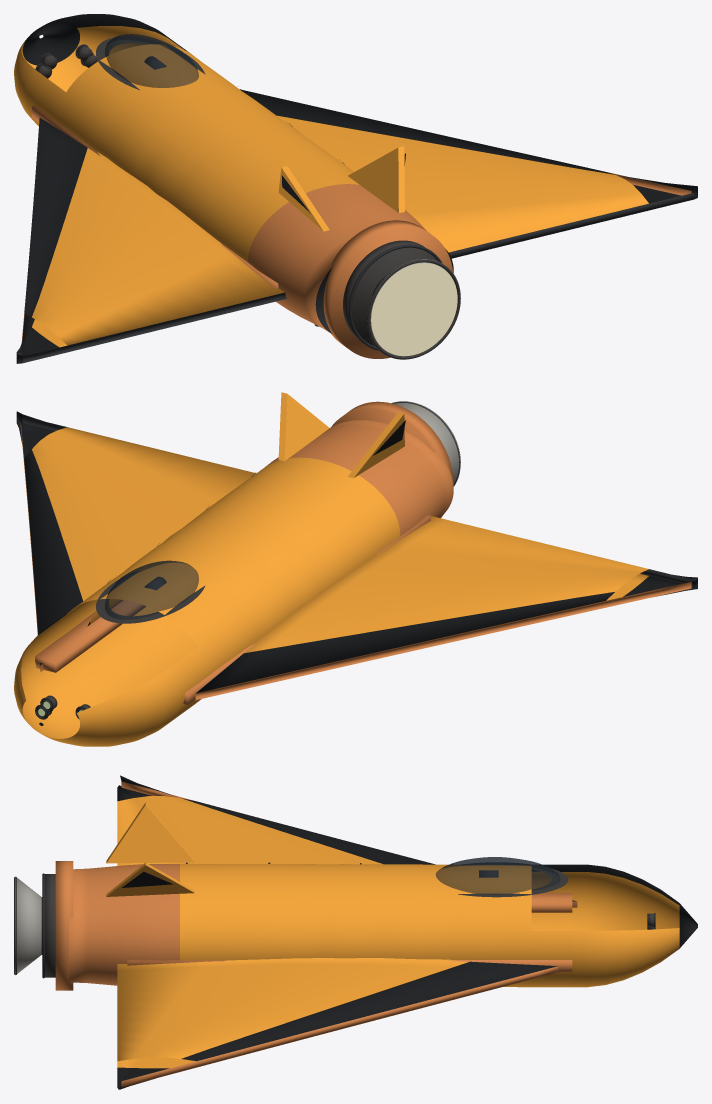
File: Ship_Longwing_9.glb
The picture shows the model from 3 angles, top to bottom: view 1: azimuth 30°, elevation 25°; view 2: azimuth 150°, elevation 25°; view 3: azimuth 270°, elevation 25°; orthographic projection. The views are drawn at different scales.
Parts seen in each view (by area): view 1: Fuselage_OrganicEllipsoidTaperedBody_BakedPaint, Wing_Left_LongDeltaAerofoil_BakedPaint, Wing_Right_LongDeltaAerofoil_BakedPaint, EngineEmitter, AftCollar_IntegratedSingleEngineBand, CanopyGlass_LowInsetDome, EngineBlock_AftDarkSingleEngineHousing, TailFin_Right_CantedStabilizer, EngineLip_Center_DarkWideRim, CanopyFrame_DorsalOvalRim, TailFin_Left_CantedStabilizer, WingRoot_Left_EmbeddedShoulder (+1 smaller); view 2: Fuselage_OrganicEllipsoidTaperedBody_BakedPaint, Wing_Left_LongDeltaAerofoil_BakedPaint, Wing_Right_LongDeltaAerofoil_BakedPaint, CanopyGlass_LowInsetDome, WingRoot_Right_EmbeddedShoulder, AftCollar_IntegratedSingleEngineBand, TailFin_Right_CantedStabilizer, EngineBell_Center_BroadBurnishedNozzle, CanopyFrame_DorsalOvalRim, TailFin_Left_CantedStabilizer, WingRoot_Left_EmbeddedShoulder; view 3: Fuselage_OrganicEllipsoidTaperedBody_BakedPaint, Wing_Right_LongDeltaAerofoil_BakedPaint, Wing_Left_LongDeltaAerofoil_BakedPaint, CanopyGlass_LowInsetDome, TailFin_Left_CantedStabilizer, AftCollar_IntegratedSingleEngineBand, EngineBell_Center_BroadBurnishedNozzle, TailFin_Right_CantedStabilizer, EngineBlock_AftDarkSingleEngineHousing, WingRoot_Right_EmbeddedShoulder, CanopyFrame_DorsalOvalRim, WingRoot_Left_EmbeddedShoulder.
Boxes of the visible parts, x1=… form: Fuselage_OrganicEllipsoidTaperedBody_BakedPaint: x1=14, y1=14, x2=453, y2=333; Wing_Left_LongDeltaAerofoil_BakedPaint: x1=16, y1=117, x2=286, y2=363; Wing_Right_LongDeltaAerofoil_BakedPaint: x1=240, y1=89, x2=697, y2=258; EngineEmitter: x1=371, y1=263, x2=457, y2=356; AftCollar_IntegratedSingleEngineBand: x1=323, y1=220, x2=452, y2=358; CanopyGlass_LowInsetDome: x1=104, y1=34, x2=198, y2=87; EngineBlock_AftDarkSingleEngineHousing: x1=343, y1=240, x2=436, y2=345; TailFin_Right_CantedStabilizer: x1=348, y1=146, x2=404, y2=212; EngineLip_Center_DarkWideRim: x1=367, y1=259, x2=460, y2=359; CanopyFrame_DorsalOvalRim: x1=96, y1=37, x2=205, y2=89; TailFin_Left_CantedStabilizer: x1=278, y1=166, x2=329, y2=231; WingRoot_Left_EmbeddedShoulder: x1=32, y1=105, x2=278, y2=288; Fuselage_OrganicEllipsoidTaperedBody_BakedPaint: x1=14, y1=420, x2=453, y2=746; Wing_Left_LongDeltaAerofoil_BakedPaint: x1=194, y1=516, x2=697, y2=700; Wing_Right_LongDeltaAerofoil_BakedPaint: x1=16, y1=411, x2=255, y2=672; CanopyGlass_LowInsetDome: x1=105, y1=560, x2=198, y2=619; WingRoot_Right_EmbeddedShoulder: x1=35, y1=600, x2=145, y2=672; AftCollar_IntegratedSingleEngineBand: x1=331, y1=401, x2=453, y2=517; TailFin_Right_CantedStabilizer: x1=278, y1=392, x2=329, y2=461; EngineBell_Center_BroadBurnishedNozzle: x1=391, y1=401, x2=460, y2=486; CanopyFrame_DorsalOvalRim: x1=96, y1=571, x2=205, y2=623; TailFin_Left_CantedStabilizer: x1=347, y1=412, x2=404, y2=477; WingRoot_Left_EmbeddedShoulder: x1=183, y1=515, x2=430, y2=704; Fuselage_OrganicEllipsoidTaperedBody_BakedPaint: x1=69, y1=864, x2=697, y2=987; Wing_Right_LongDeltaAerofoil_BakedPaint: x1=117, y1=958, x2=560, y2=1089; Wing_Left_LongDeltaAerofoil_BakedPaint: x1=117, y1=775, x2=577, y2=907; CanopyGlass_LowInsetDome: x1=436, y1=857, x2=560, y2=894; TailFin_Left_CantedStabilizer: x1=106, y1=802, x2=194, y2=863; AftCollar_IntegratedSingleEngineBand: x1=55, y1=861, x2=73, y2=990; EngineBell_Center_BroadBurnishedNozzle: x1=15, y1=877, x2=41, y2=974; TailFin_Right_CantedStabilizer: x1=106, y1=862, x2=194, y2=896; EngineBlock_AftDarkSingleEngineHousing: x1=45, y1=874, x2=55, y2=977; WingRoot_Right_EmbeddedShoulder: x1=127, y1=959, x2=572, y2=971; CanopyFrame_DorsalOvalRim: x1=458, y1=863, x2=568, y2=897; WingRoot_Left_EmbeddedShoulder: x1=531, y1=892, x2=572, y2=912.
Size of the model in its own units: 7.22 by 1.71 by 6.86.
